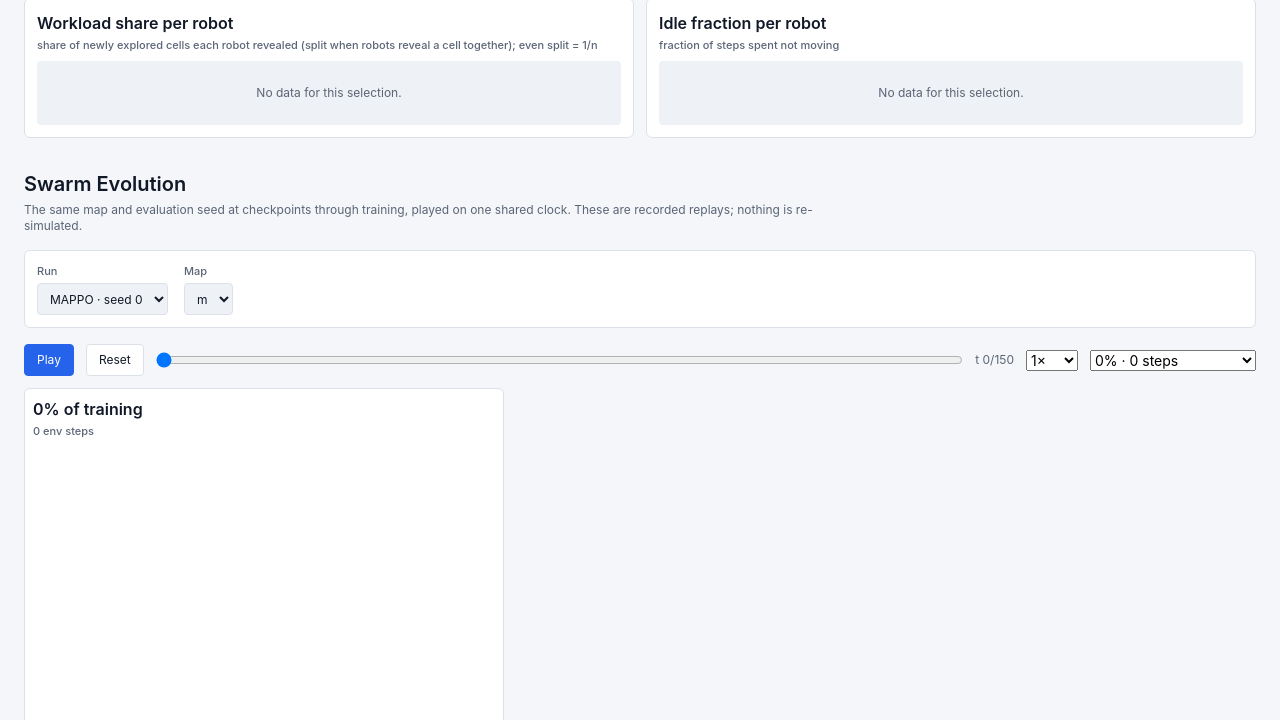
Scenario: Swarm Analysis page › on narrow screens Evolution shows one canvas and a checkpoint selector
(page scrolled)
Expected: the slider named "Shared timeline" is shown, [156,352,963,368]
Select "100% · 999.42k steps" in the dropdown named "Checkpoint" at (1173,360), box [1090,350,1256,370]
(page scrolled)
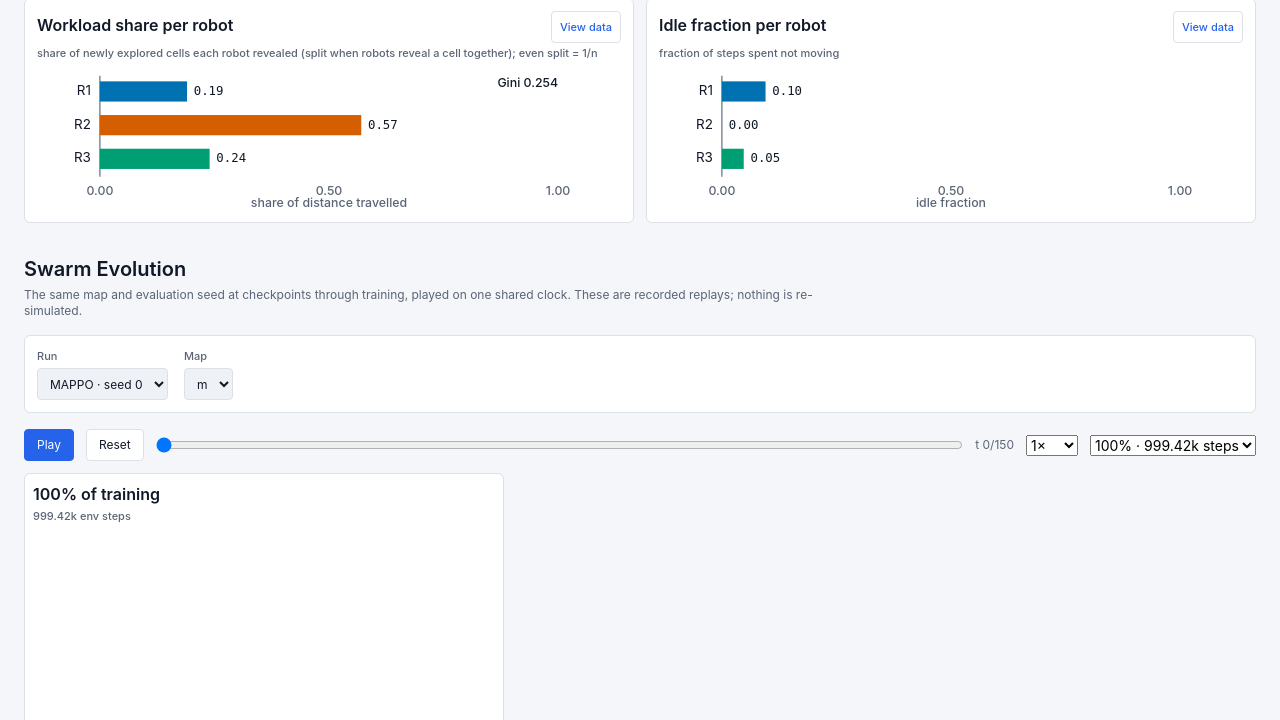
Expected: the text "100% of training" is shown, [33,484,160,504]
